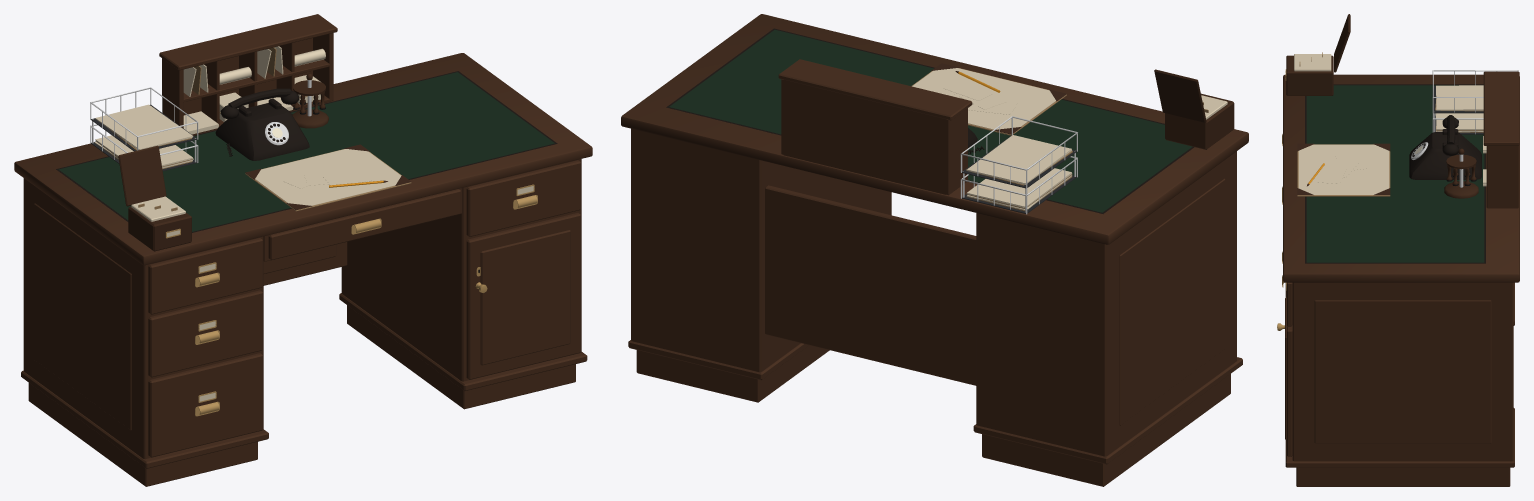
File: archivist_desk.glb
3 renders of one model, left to right at view 1: azimuth 30°, elevation 25°; view 2: azimuth 150°, elevation 25°; view 3: azimuth 270°, elevation 25°, orthographic. The views are drawn at different scales.
Parts seen in each view (by area): view 1: desk, desk_dressing, gallery; view 2: desk, gallery, desk_dressing; view 3: desk, desk_dressing, gallery.
Boxes of the visible parts, x1,y1,x2,y2 form: desk: [14, 53, 592, 486]; desk_dressing: [90, 73, 411, 251]; gallery: [159, 14, 337, 134]; desk: [621, 14, 1248, 486]; gallery: [778, 59, 972, 195]; desk_dressing: [911, 63, 1234, 214]; desk: [1277, 74, 1519, 486]; desk_dressing: [1285, 14, 1518, 198]; gallery: [1483, 71, 1519, 208].
Bounding box in the file's own units: 1.5 × 0.995 × 0.769.
